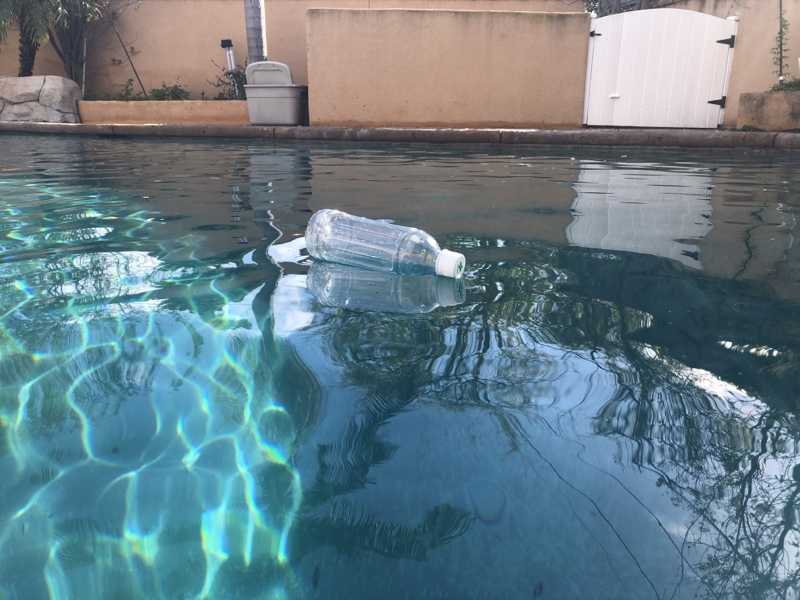Plastic Bottle: (301, 205, 468, 282)
